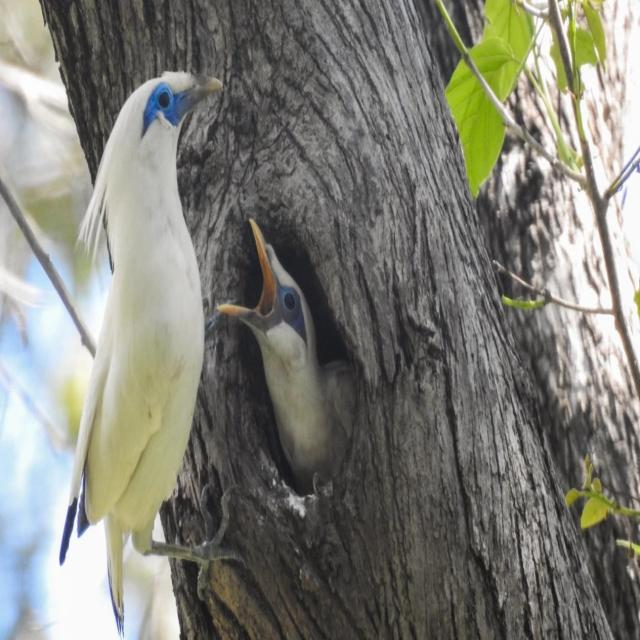Jalak Bali: (53, 51, 228, 640), (215, 205, 374, 508)
